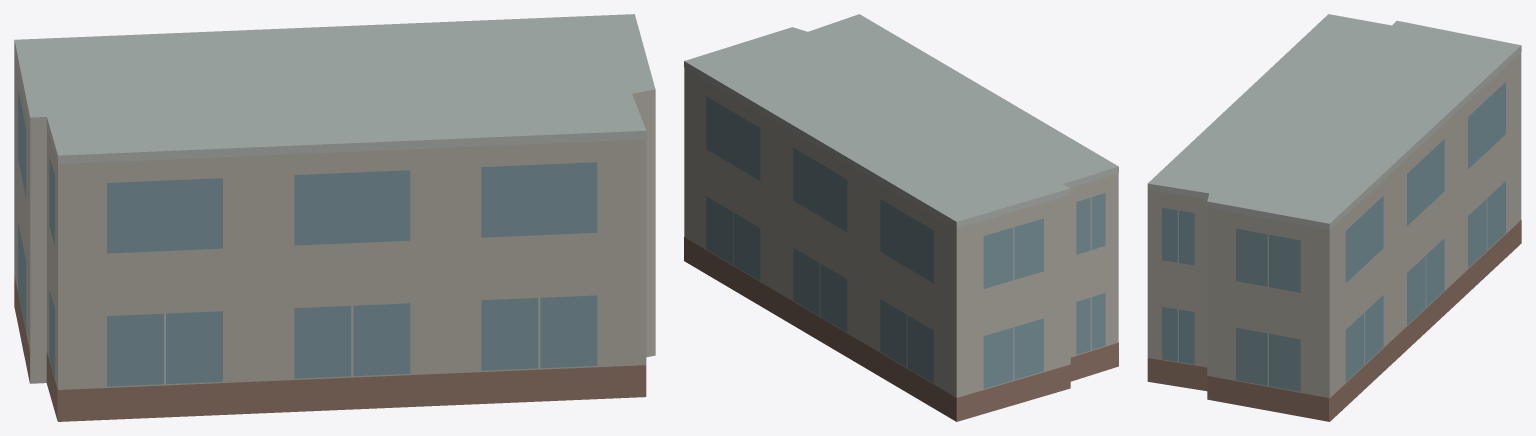
File: survey-upis-32537646.glb
The picture shows the model from 3 angles, left to right: view 1: azimuth 30°, elevation 25°; view 2: azimuth 150°, elevation 25°; view 3: azimuth 270°, elevation 25°; orthographic projection. The views are drawn at different scales.
Visible parts, largest first — view 1: survey-upis-32537646.tmp; view 2: survey-upis-32537646.tmp; view 3: survey-upis-32537646.tmp.
Part boxes in pixels (left/top/right/bottom): survey-upis-32537646.tmp: left=14, top=14, right=655, bottom=421; survey-upis-32537646.tmp: left=684, top=14, right=1118, bottom=421; survey-upis-32537646.tmp: left=1147, top=14, right=1521, bottom=421.
Bounding box in the file's own units: 17.27 × 7.6 × 13.01.
